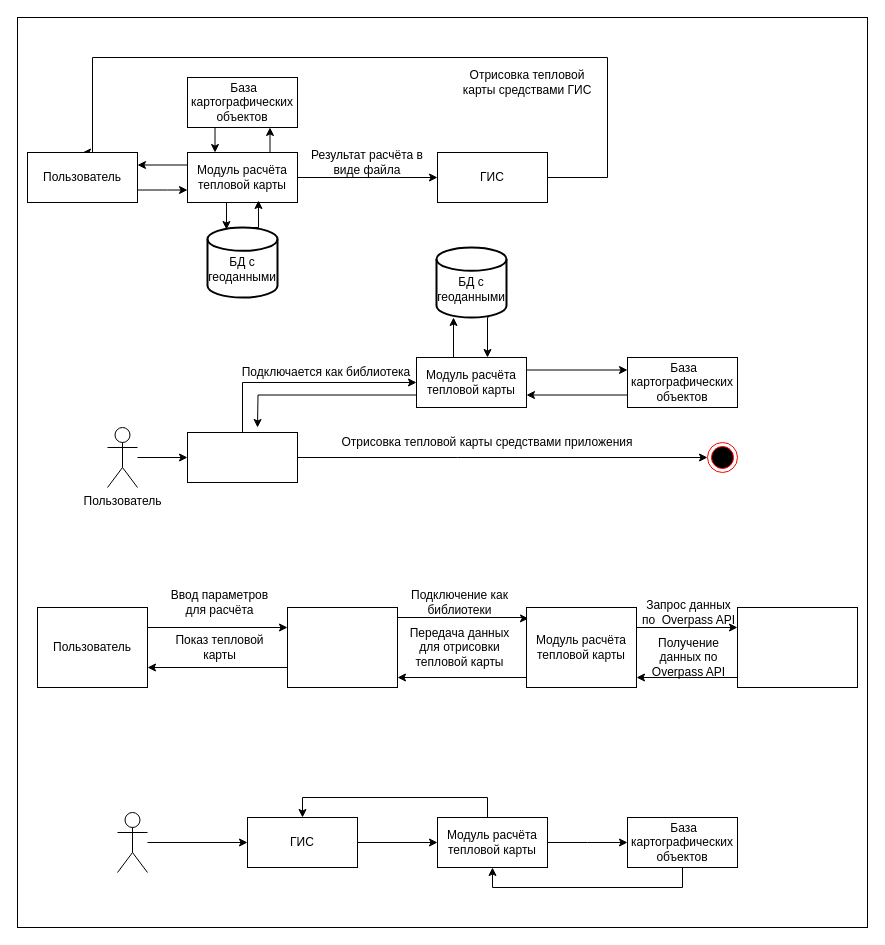
This 885x945 diagram has some shape labels left out. The centre of each missing label's shape, as x and y in pixels:
Actor: (132,842)
Android приложение: (342,647)
Внешний сервер OSM: (797,647)
Приложение: (242,457)
